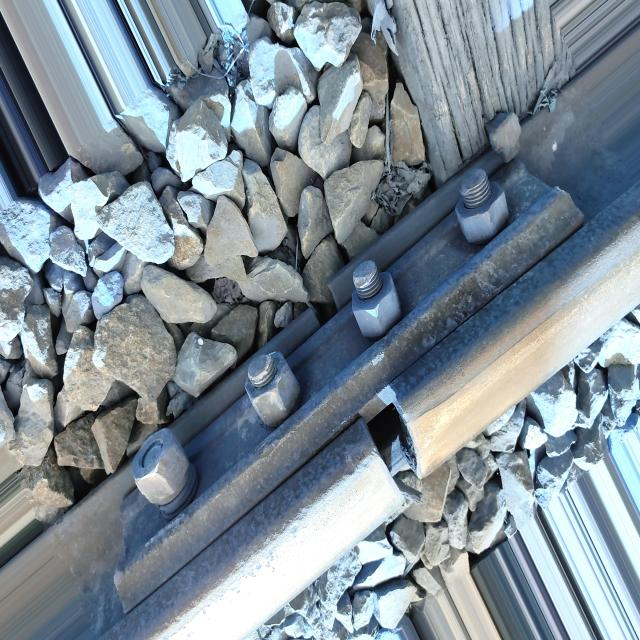crack: (341, 355, 432, 528)
